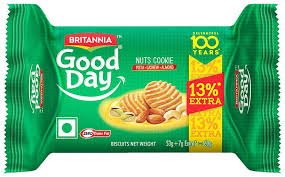gooday-small: (15, 24, 256, 154)
